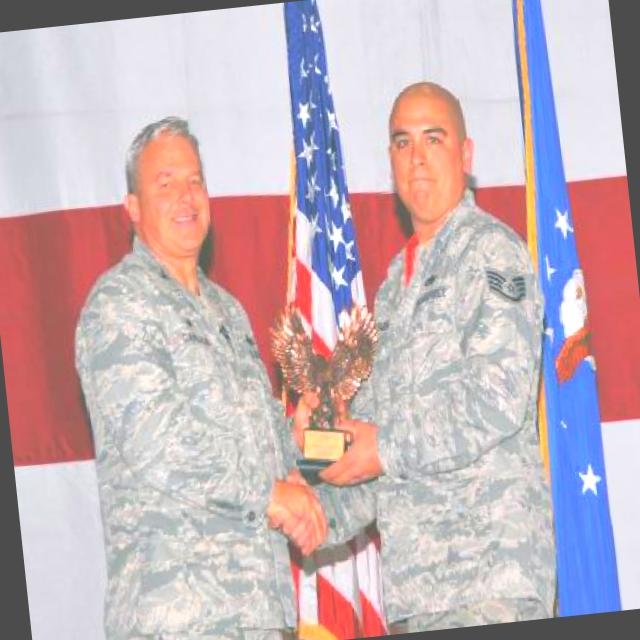Person: (220, 70, 577, 640), (44, 97, 323, 640)
